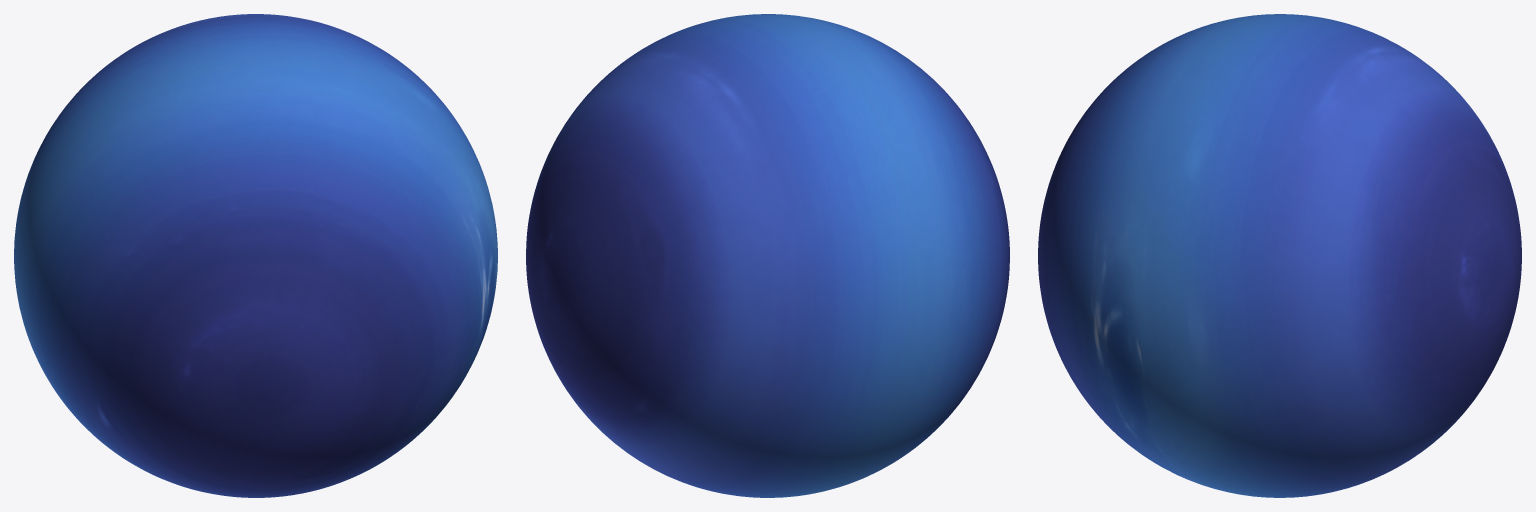
The model's file is neptune.glb.
3 views of the same model, side by side, from view 1: azimuth 30°, elevation 25°; view 2: azimuth 150°, elevation 25°; view 3: azimuth 270°, elevation 25° (orthographic).
Parts seen in each view (by area): view 1: Sphere; view 2: Sphere; view 3: Sphere.
Part boxes in pixels (x1,y1,x2,y2): Sphere: (14,14,497,497); Sphere: (526,14,1009,497); Sphere: (1038,14,1521,497).
Bounding box in the file's own units: 2 × 2 × 2.
Materials: 1 (1 with a texture image).
